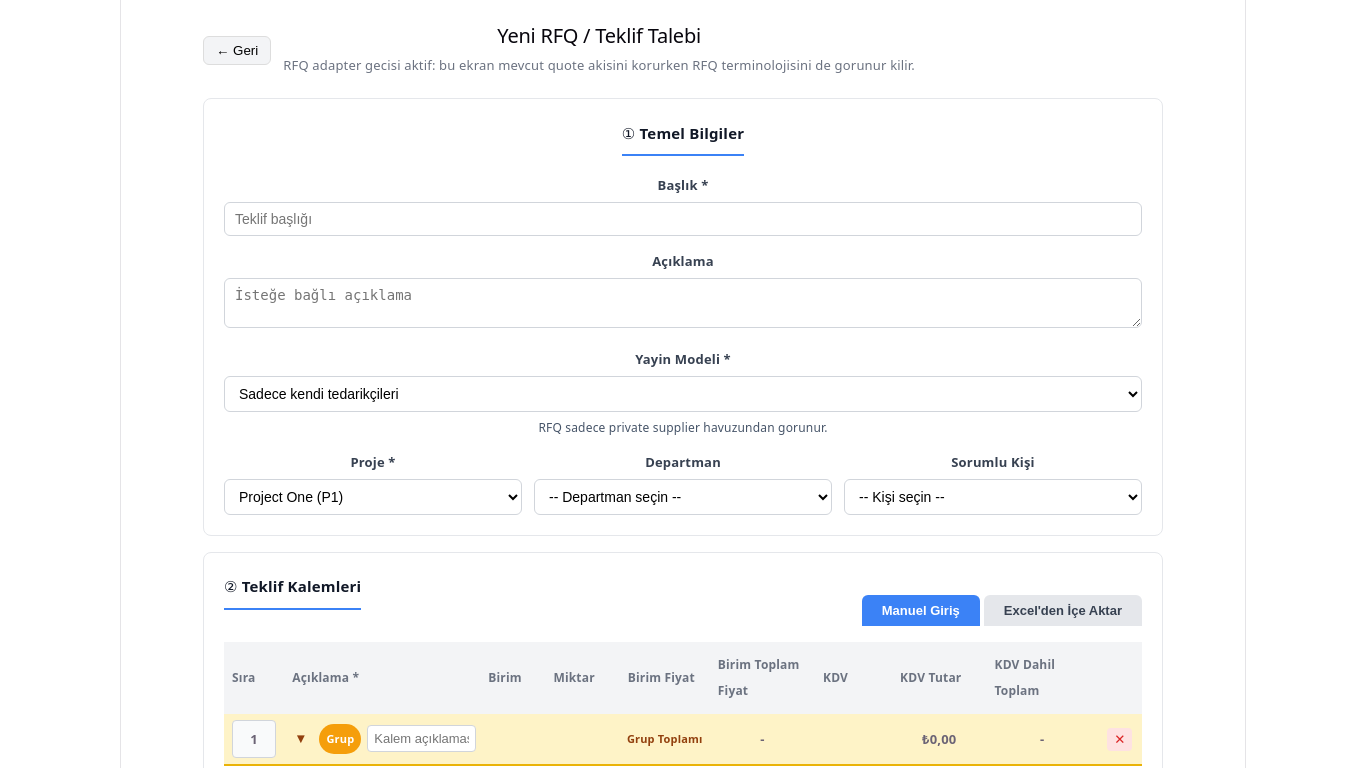
Test: Quote page permissions › proje olusturan kisi personnel listesinde donmese bile sorumlu kisi olarak secilebilir
Expected: the heading "Yeni RFQ / Teklif Talebi" is shown, left=497, top=22, right=701, bottom=49
Select "Hammadde Satin Alma" in the dropdown named "Departman" at (683, 497), box left=534, top=479, right=832, bottom=515
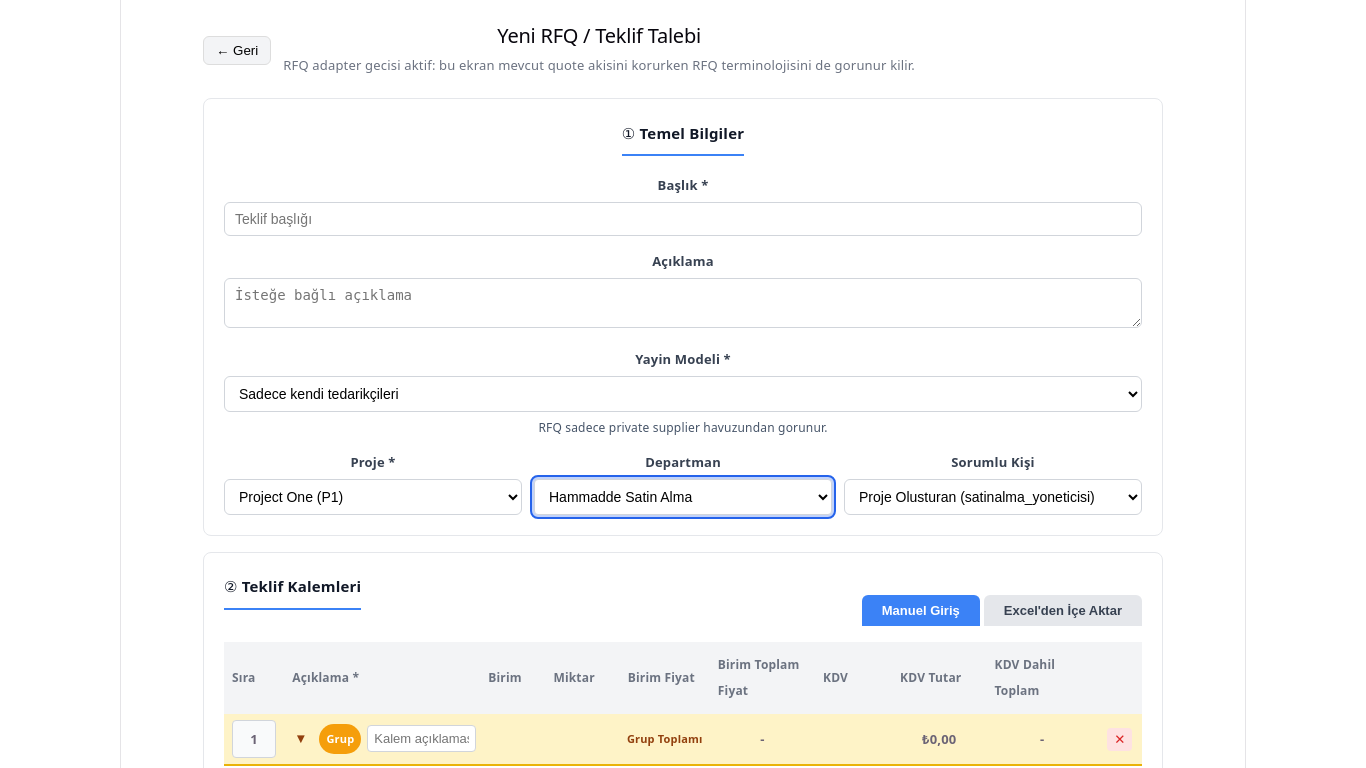
Expected: the dropdown named "Sorumlu Kişi" shows "Proje Olusturan (satinalma_yoneticisi)", left=844, top=479, right=1142, bottom=515
